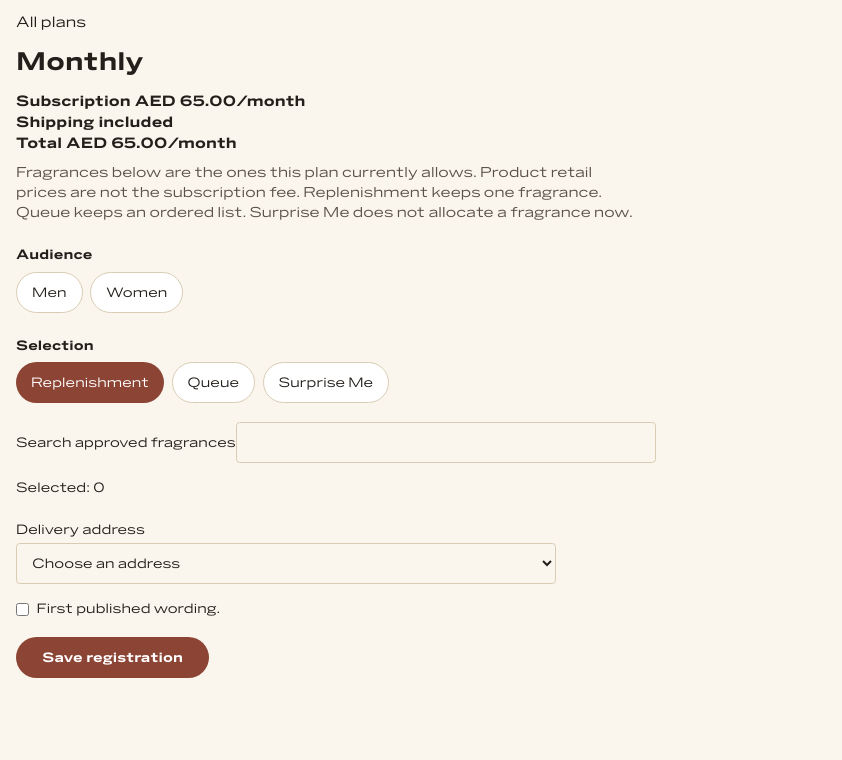
Test: account subscriptions and registration gate › refreshes a replaced agreement and requires a new acceptance
Expected: the text "First published wording." is shown, [36,599,220,618]
Click the button "Women" at (137, 292), box [90,272,183,313]
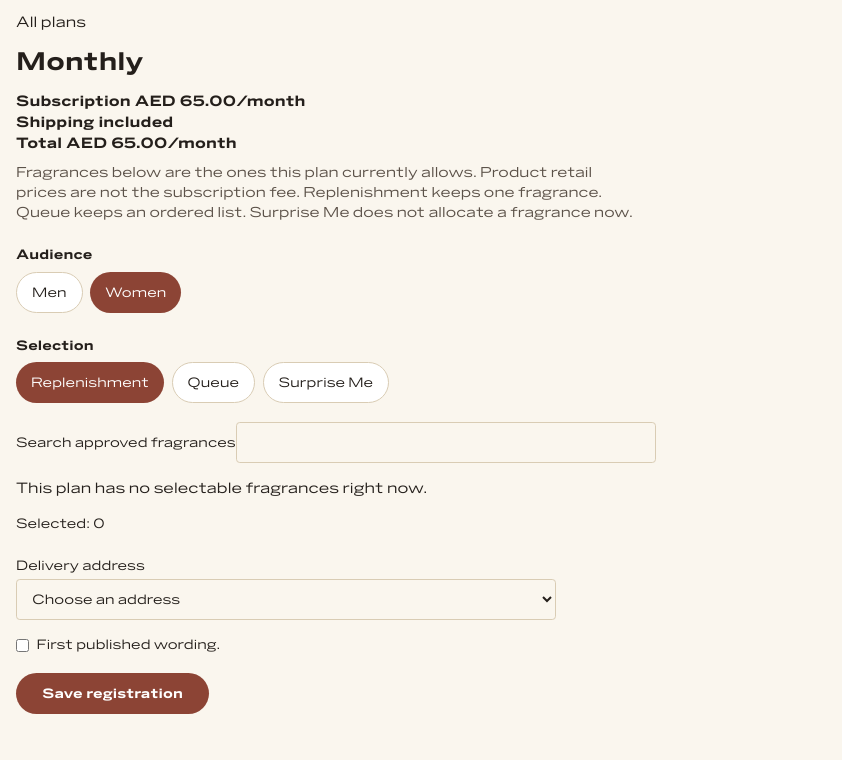
Click the button "Surprise Me" at (326, 383), box [263,362,389,403]
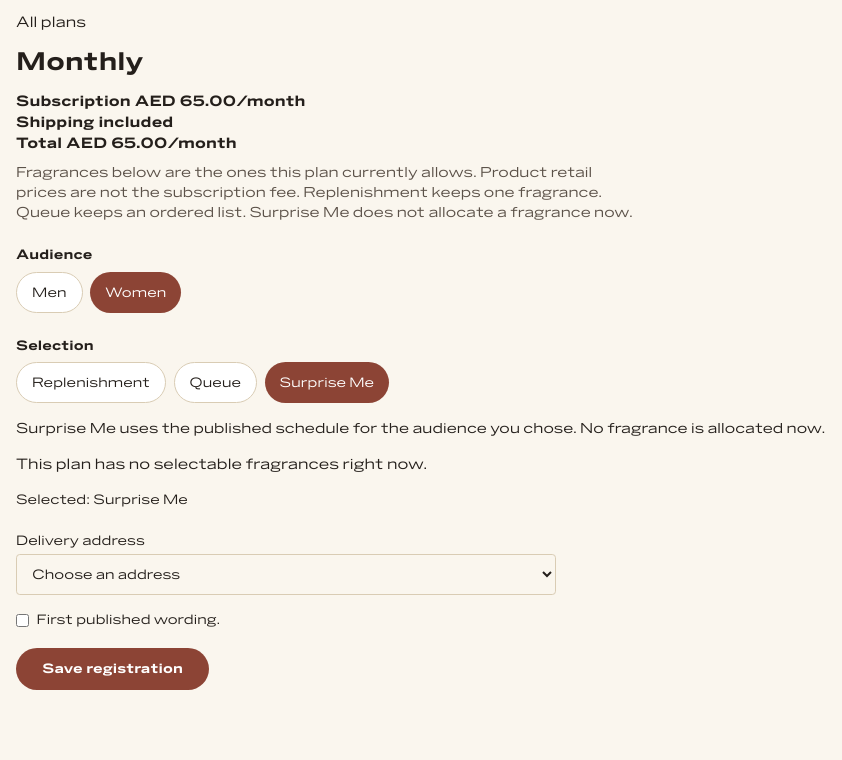
Select "1 Rose Street, Dubai, AE" in the dropdown labelled "Delivery address" at (286, 575), box [16,554,556,596]
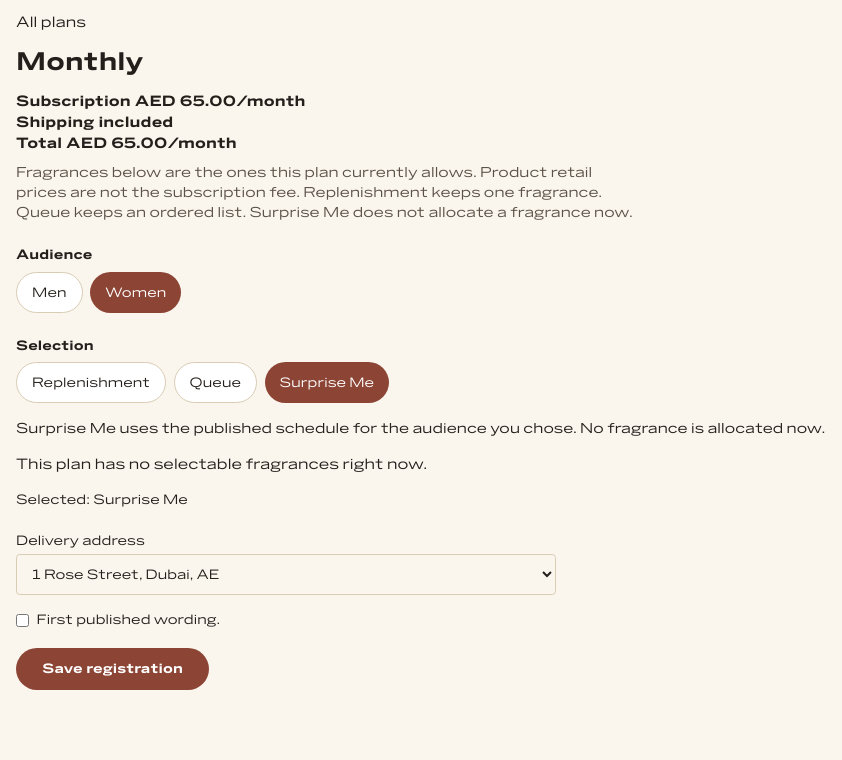
Click the checkbox at (22, 621), box [16,614,29,627]
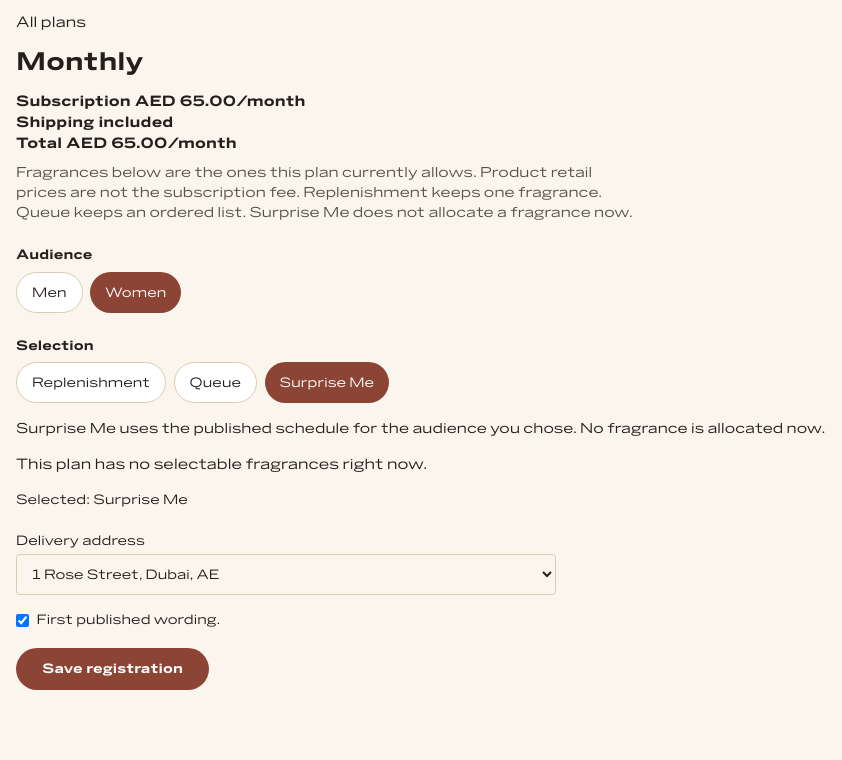
Click the button "Save registration" at (113, 669), box [16,648,209,690]
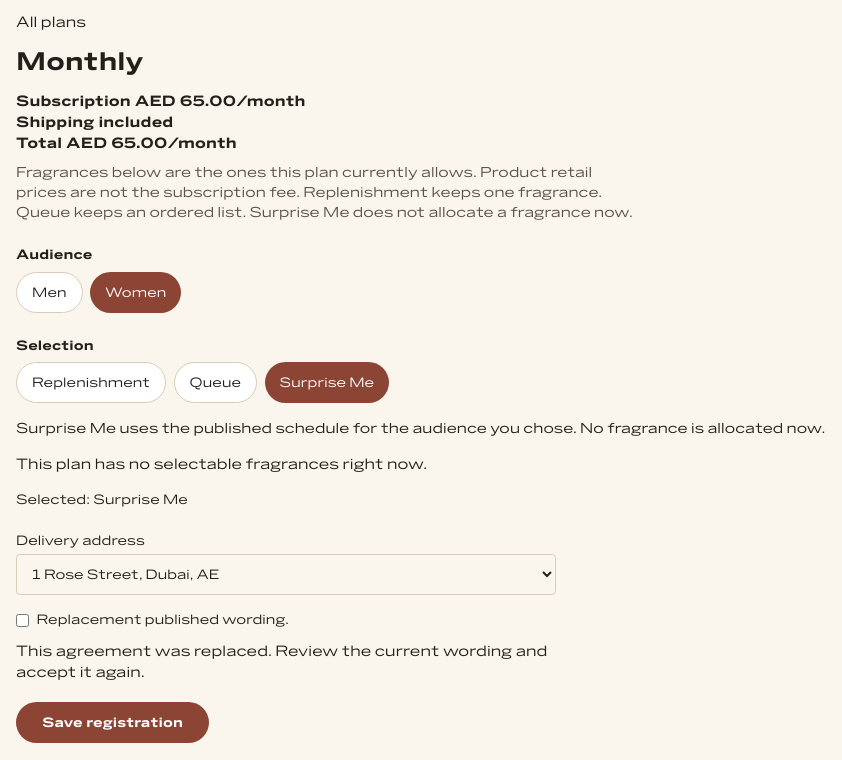
Expected: the checkbox is not checked, [16,614,29,627]
Expected: the text "Replacement published wording." is shown, [36,610,289,630]
Expected: the text "First published wording." is gone
